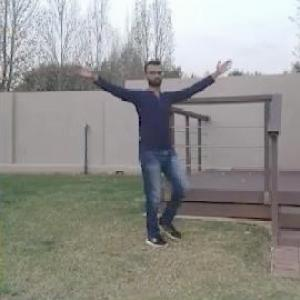takeoff: (60, 51, 229, 256)
